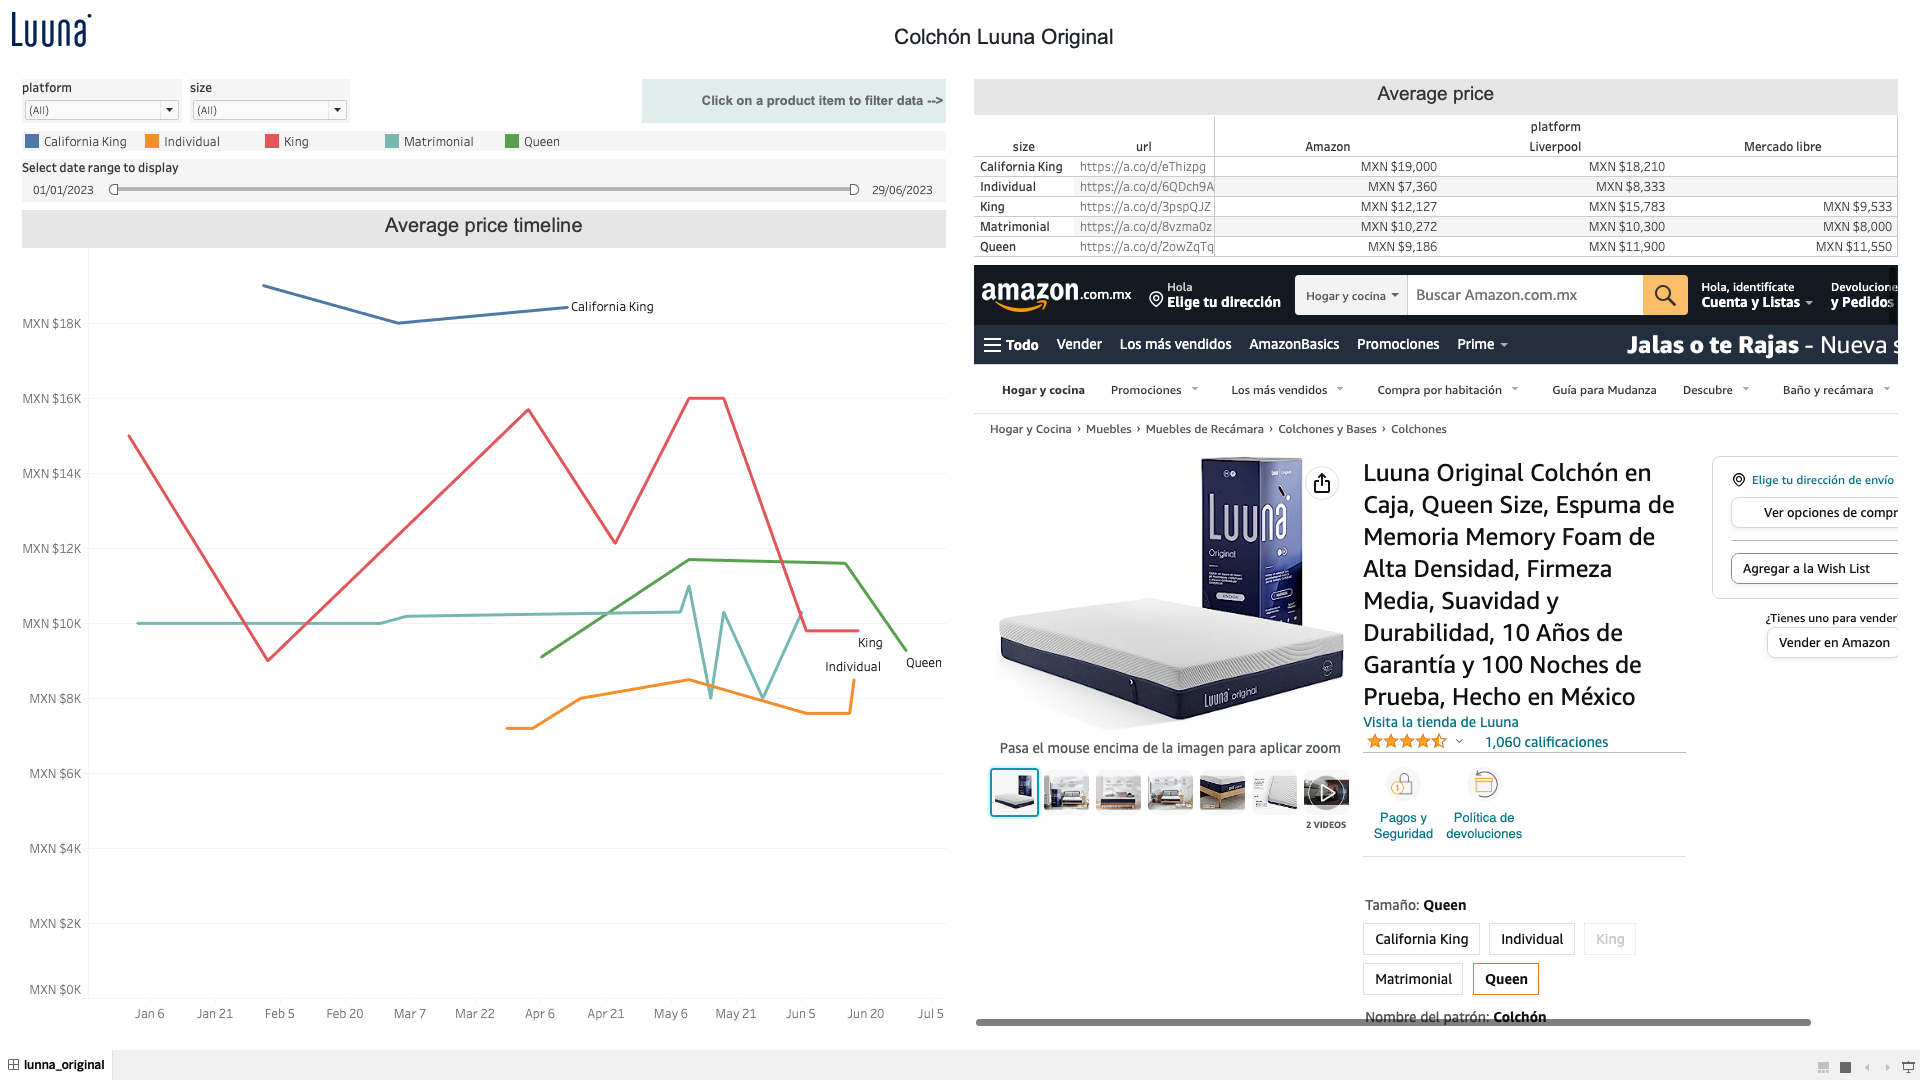

The page's visual inventory and layout, read from the dashboard file:
{"tool":"tableau","page":{"name":"lunna_original","canvas":[1000,1000],"units":"permille","ordinal":0},"visuals":[{"type":"image","param":"Image/header-logo.png","box":[4.7,8.1,51.5,54.6]},{"type":"text","box":[56.2,8.1,939.1,54.6]},{"type":"filter","title":"price_timeline","param":"[federated.1ri7vqq15h7hsc11fzk4318ignre].[none:Plataforma:nk]","box":[10.5,72.9,98.3,52.6]},{"type":"filter","title":"price_timeline","param":"[federated.1ri7vqq15h7hsc11fzk4318ignre].[none:Tamaño:nk]","box":[108.8,72.9,98.3,52.6]},{"type":"blank","box":[207.1,72.9,135.3,52.6]},{"type":"text","box":[342.4,72.9,151.7,52.6]},{"type":"worksheet","title":"products","mark":"Automatic","rows":["Tamaño","url"],"cols":["Plataforma"],"box":[506.1,72.9,483.3,188.3]},{"type":"legend","title":"price_timeline","param":"[federated.1ri7vqq15h7hsc11fzk4318ignre].[none:Tamaño:nk]","box":[10.5,125.5,483.6,28.3]},{"type":"filter","title":"price_timeline","param":"[federated.1ri7vqq15h7hsc11fzk4318ignre].[none:Fecha:qk]","box":[10.5,153.8,483.6,51.6]},{"type":"worksheet","title":"price_timeline","mark":"Automatic","rows":["Precio"],"cols":["Fecha"],"box":[10.5,205.4,483.6,776.3]},{"type":"web page","param":"https://a.co/d/2owZqTq","box":[506.1,261.1,483.3,720.6]}]}

Visuals, with their boxes on the dashboard's canvas, which has no fixed pixel size, in thousandths of its width and height (x1, y1, x2, y2). These are canvas units, not pixel positions in the 1920x1080 screenshot, which may show the page scaled, cropped or inside an application window:
image: (5,8,56,63)
text: (56,8,995,63)
"price_timeline" filter: (10,73,109,126)
"price_timeline" filter: (109,73,207,126)
blank: (207,73,342,126)
text: (342,73,494,126)
"products" worksheet: (506,73,989,261)
"price_timeline" legend: (10,126,494,154)
"price_timeline" filter: (10,154,494,205)
"price_timeline" worksheet: (10,205,494,982)
web page: (506,261,989,982)
